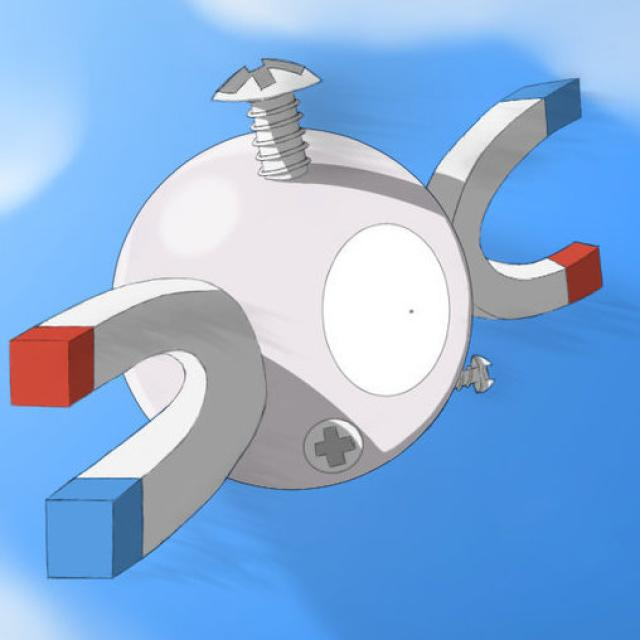Magnemite: (0, 68, 616, 589)
